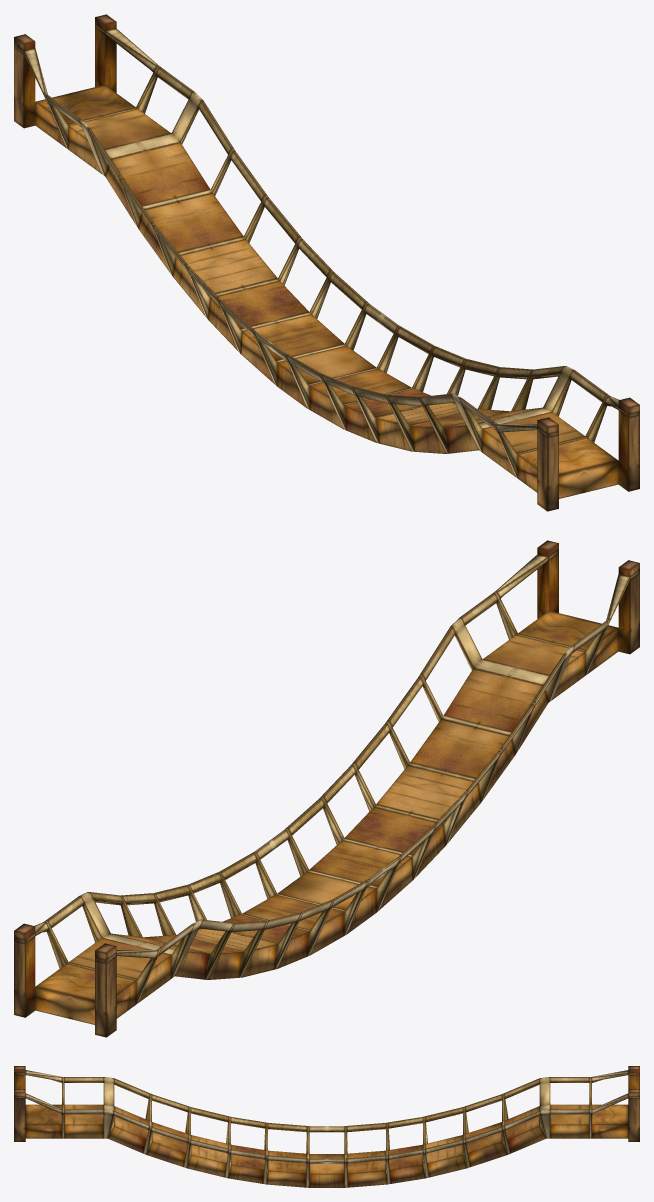
Rendered from Bridge.glb.
3 renders of one model, top to bottom at view 1: azimuth 30°, elevation 25°; view 2: azimuth 150°, elevation 25°; view 3: azimuth 270°, elevation 25°, orthographic. The views are drawn at different scales.
Visible parts, largest first — view 1: Cube; view 2: Cube; view 3: Cube.
Boxes of the visible parts, x1,y1,x2,y2 form: Cube: [14, 14, 639, 511]; Cube: [14, 540, 639, 1037]; Cube: [14, 1066, 639, 1187].
Size of the model in its own units: 2.01 by 2.79 by 16.05.
Materials: 1 (1 with a texture image).
